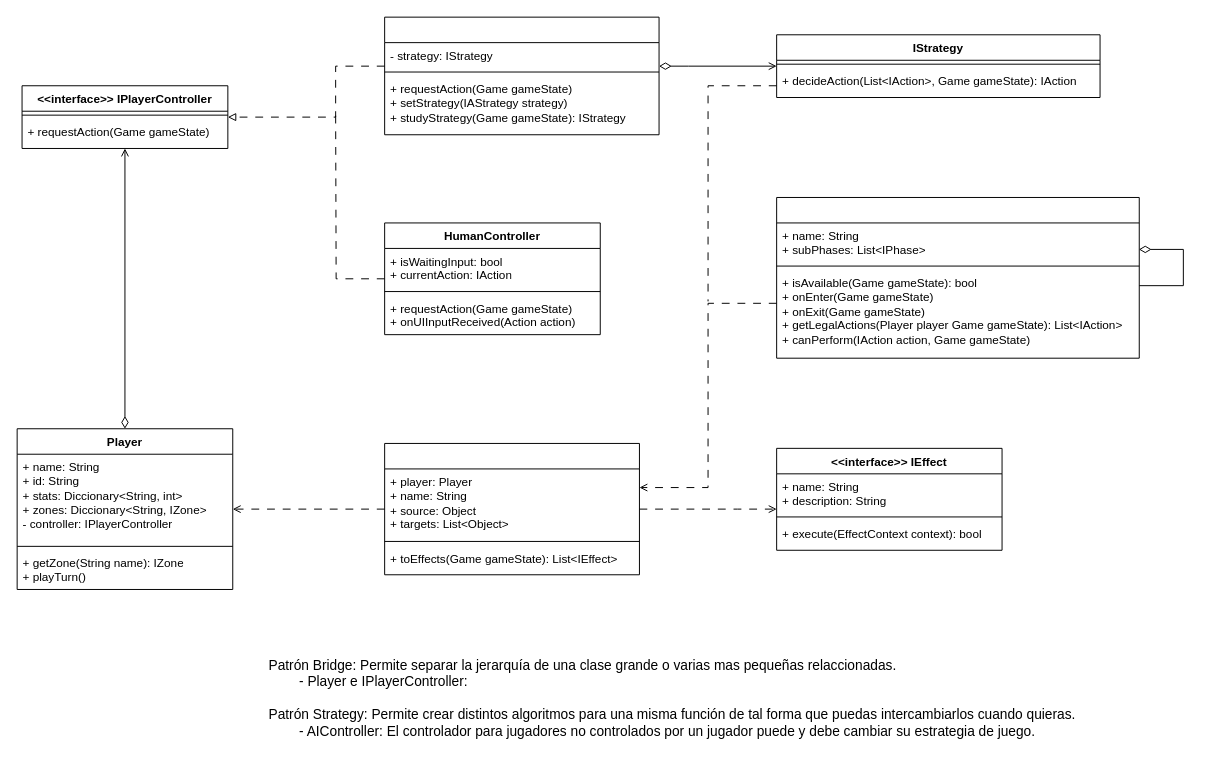
This 1212x764 diagram has some shape labels left out. Each missing label, with the box of its shape:
<<interface>> IAction: (384, 442, 639, 575)
<<interface>> IPhase: (776, 196, 1139, 358)
AIController: (384, 16, 659, 135)
